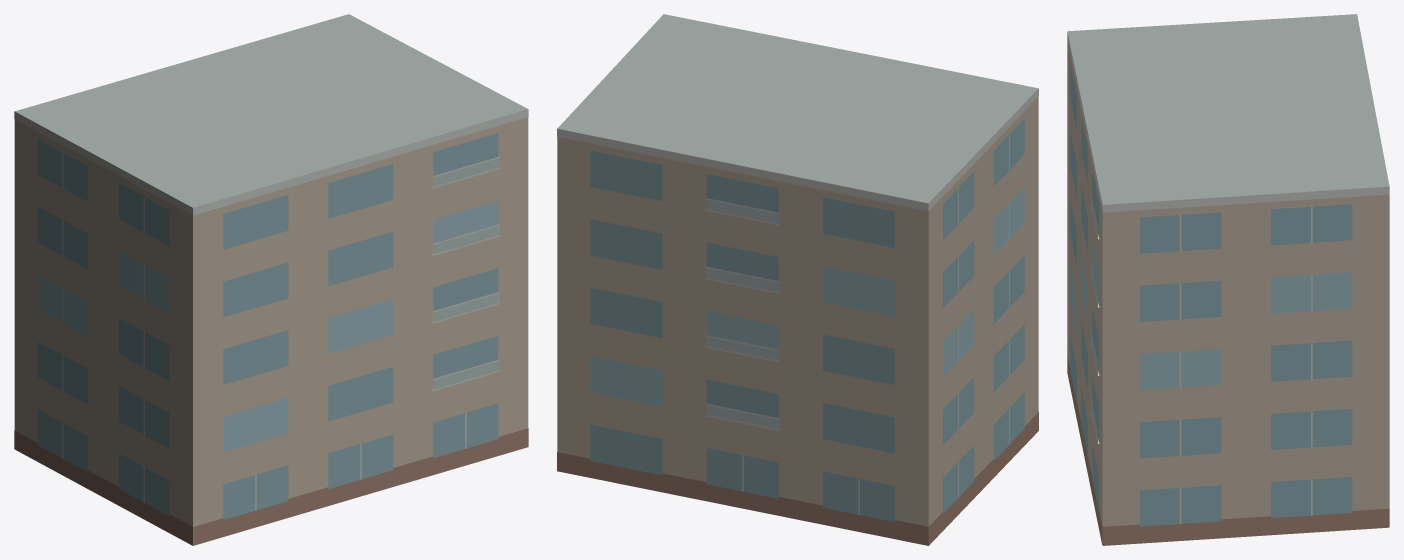
Rendered from survey-upis-32987953.glb.
3 renders of one model, left to right at view 1: azimuth 30°, elevation 25°; view 2: azimuth 150°, elevation 25°; view 3: azimuth 270°, elevation 25°, orthographic.
Visible parts, largest first — view 1: survey-upis-32987953.tmp; view 2: survey-upis-32987953.tmp; view 3: survey-upis-32987953.tmp.
Part boxes in pixels (<box>): survey-upis-32987953.tmp: <box>14,14,528,545</box>; survey-upis-32987953.tmp: <box>557,14,1038,545</box>; survey-upis-32987953.tmp: <box>1067,14,1389,545</box>.
Size of the model in its own units: 12.67 by 10.55 by 9.05.
